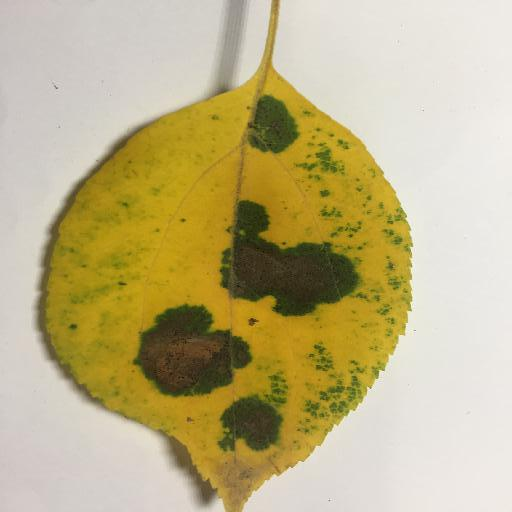Brown_Spot: (139, 307, 231, 392), (234, 228, 340, 301), (226, 396, 278, 443)
